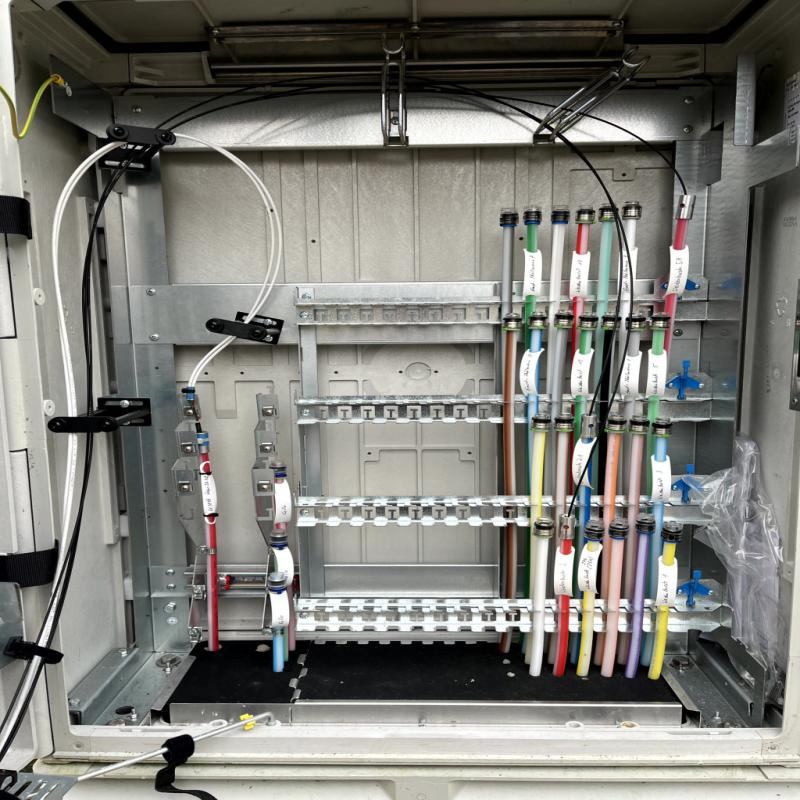NT-Gehause: (0, 0, 800, 793)
